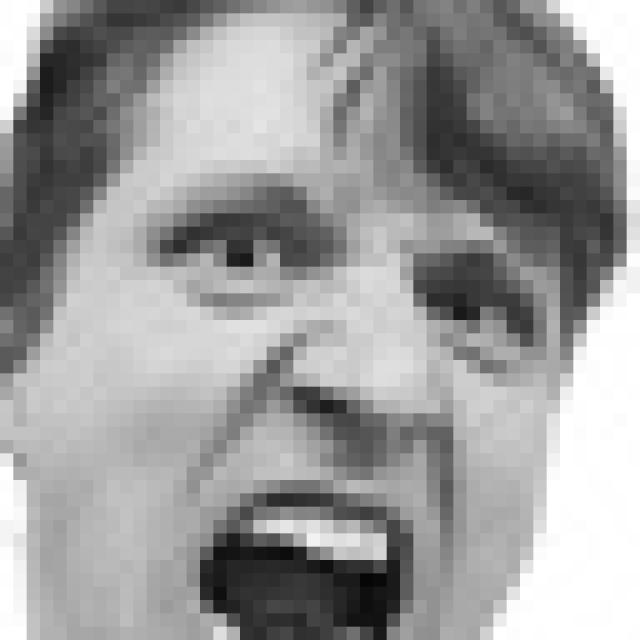angry: (116, 169, 552, 640)
